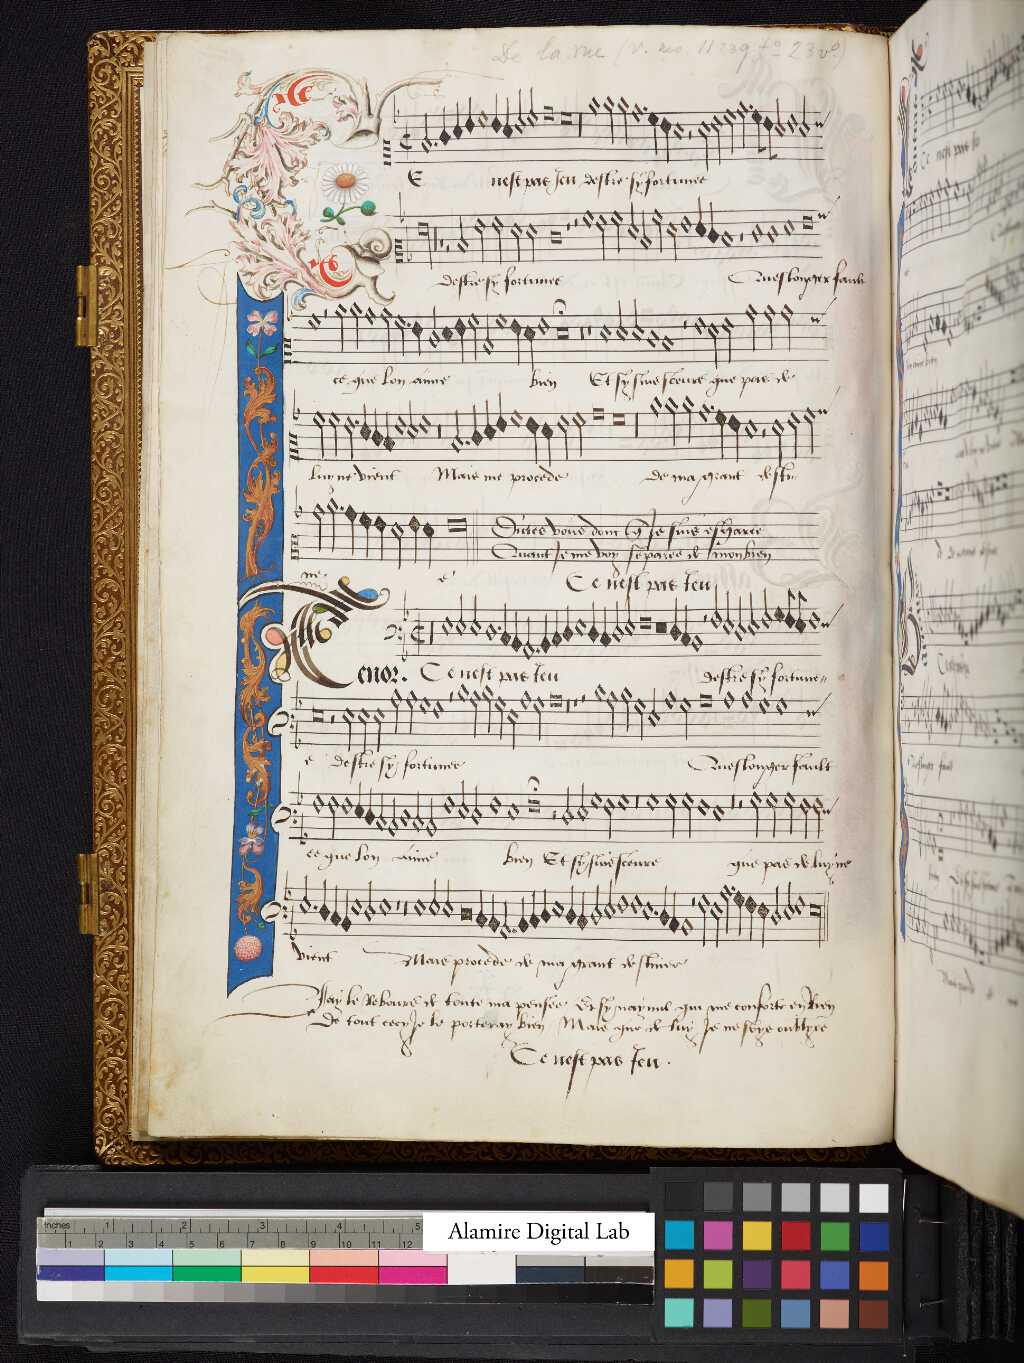barline: (820, 886, 830, 948)
breve rest: (399, 878, 411, 941)
colored breve_7: (456, 898, 477, 926)
f clef_7: (262, 901, 289, 927)
flat_11: (286, 901, 301, 945)
flat_4: (279, 863, 295, 903)
longa_6: (807, 898, 824, 956)
minim rest: (689, 877, 699, 947)
minim_10: (499, 890, 512, 945)
minim_3: (719, 874, 733, 938)
minim_5: (696, 883, 713, 950)
minim_6: (709, 891, 724, 951), (296, 867, 312, 918), (603, 871, 618, 923), (441, 871, 456, 922), (782, 874, 796, 923), (427, 871, 441, 920)
minim_7: (362, 871, 378, 927), (591, 875, 605, 929), (769, 878, 783, 929)
point: (649, 901, 660, 921), (507, 923, 521, 939), (309, 898, 321, 912), (727, 879, 737, 895)
semibreve rest: (393, 875, 403, 945)
semibreve_5: (628, 885, 643, 920), (793, 886, 808, 919), (616, 886, 630, 918)
semibreve_6: (376, 889, 394, 923), (411, 889, 427, 923), (639, 892, 654, 927), (552, 890, 566, 921), (350, 890, 364, 920)
semibreve_9: (680, 911, 695, 941)
semiminim_4: (733, 880, 746, 942)
semiminim_5: (744, 885, 758, 947)
semiminim_6: (755, 892, 769, 955)
semiminim_7: (318, 872, 332, 928), (659, 877, 672, 933), (565, 877, 578, 931), (539, 881, 552, 928)
semiminim_8: (474, 882, 489, 933), (668, 883, 681, 939), (330, 877, 343, 932), (577, 885, 589, 937), (528, 883, 540, 934)
semiminim_9: (340, 881, 353, 938), (516, 888, 530, 939), (486, 885, 499, 939)
